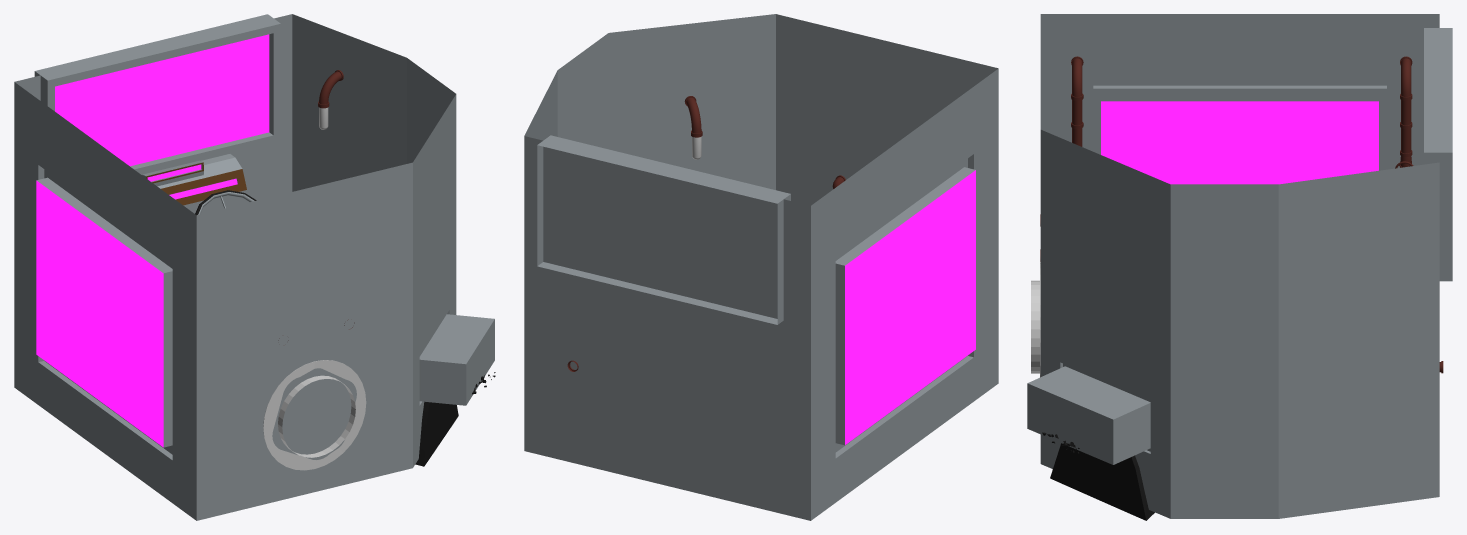
File: Test Room.fbx
3 renders of one model, left to right at view 1: azimuth 30°, elevation 25°; view 2: azimuth 150°, elevation 25°; view 3: azimuth 270°, elevation 25°, orthographic. The views are drawn at different scales.
Parts seen in each view (by area): view 1: Room, Cube.001; view 2: Room, Cube.001; view 3: Room, Cube.001.
Boxes of the visible parts, box(x1,y1,x2,y2) form: Room: box(14, 14, 495, 520); Cube.001: box(34, 14, 280, 174); Room: box(524, 14, 998, 520); Cube.001: box(537, 135, 790, 324); Room: box(1027, 14, 1443, 520); Cube.001: box(1424, 28, 1452, 281).
Size of the model in its own units: 250 by 221 by 250.
